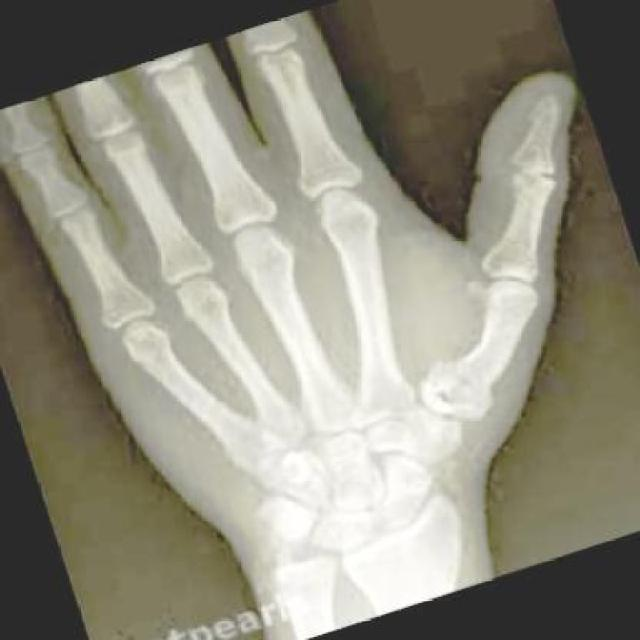Fracture: (408, 343, 491, 428)
